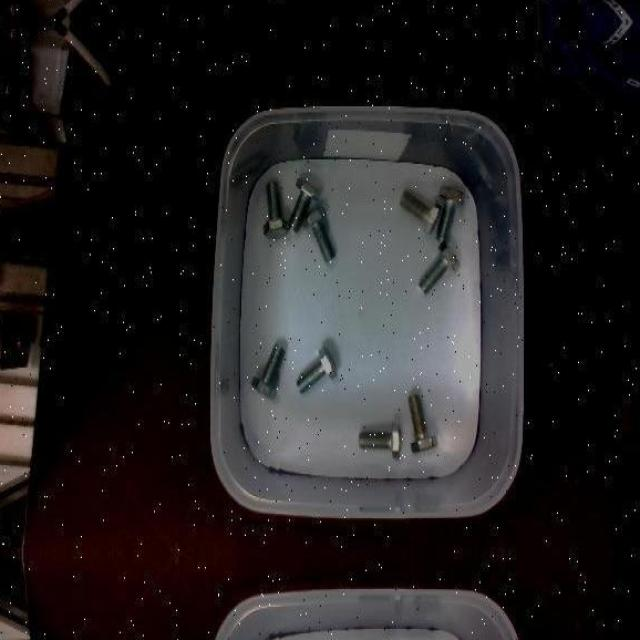screw: (418, 239, 461, 295), (302, 206, 336, 263), (398, 190, 441, 235), (296, 346, 338, 392), (408, 394, 438, 454), (252, 342, 284, 398), (288, 176, 320, 231), (263, 178, 290, 238), (437, 185, 465, 241), (358, 423, 400, 458)
